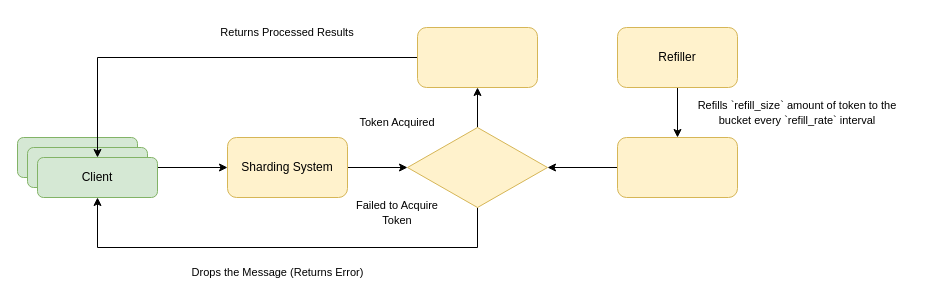
This 925x304 diagram has some shape labels left out. Each missing label, with the centre of its shape:
"Bucket" goes at point 677,167.
"Process the Message" goes at point 477,57.
"Tries to acquire Token" goes at point 477,167.
